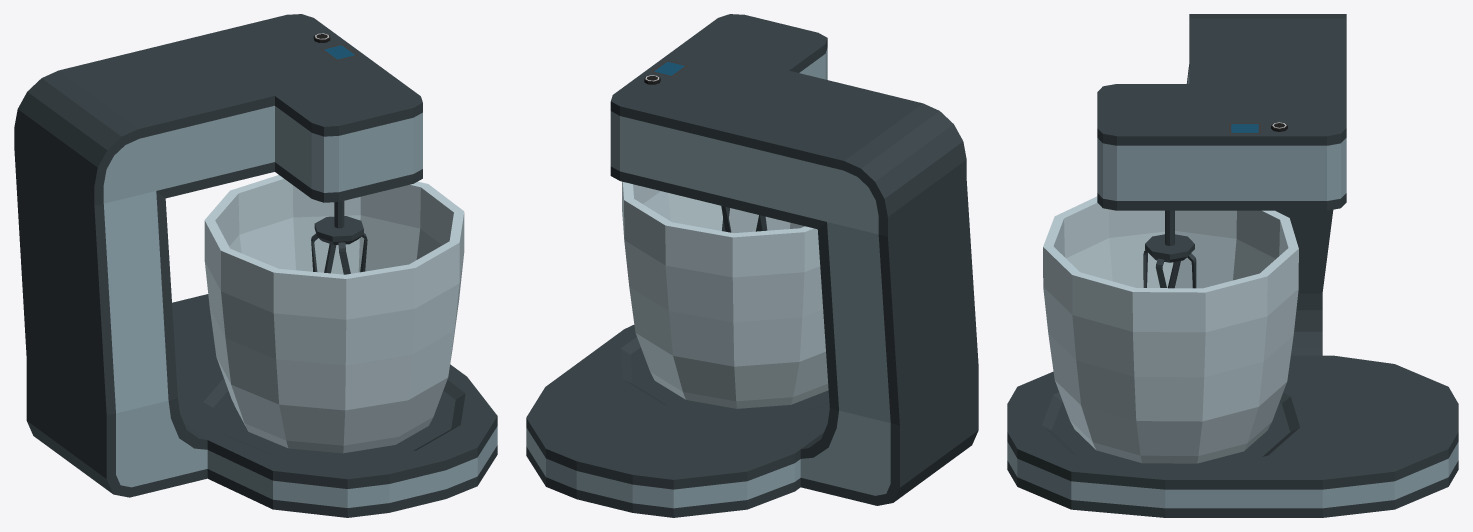
File: KA_Mixer_V1.fbx
The picture shows the model from 3 angles, left to right: view 1: azimuth 30°, elevation 25°; view 2: azimuth 150°, elevation 25°; view 3: azimuth 270°, elevation 25°; orthographic projection.
Parts seen in each view (by area): view 1: KA_Mixer_V1, KA_Mixer_V1_Bowl; view 2: KA_Mixer_V1, KA_Mixer_V1_Bowl; view 3: KA_Mixer_V1, KA_Mixer_V1_Bowl.
Boxes of the visible parts, x1,y1,x2,y2 form: KA_Mixer_V1: (14, 14, 497, 517); KA_Mixer_V1_Bowl: (204, 175, 464, 453); KA_Mixer_V1: (526, 14, 978, 517); KA_Mixer_V1_Bowl: (622, 181, 828, 408); KA_Mixer_V1: (1007, 14, 1458, 517); KA_Mixer_V1_Bowl: (1043, 196, 1298, 463).
Size of the model in its own units: 38.46 by 36.45 by 42.51.
